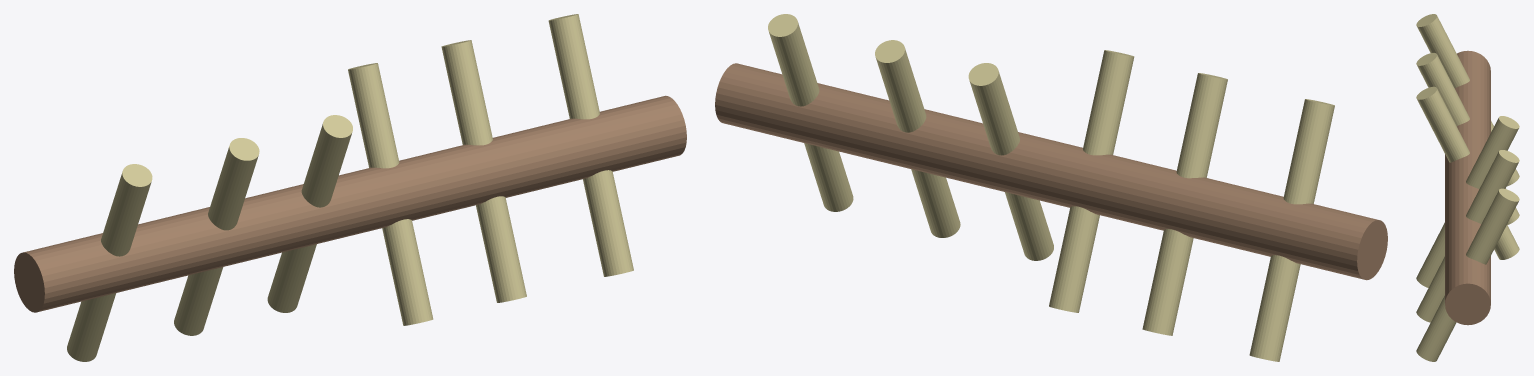
File: obstacle_barricade.glb
3 views of the same model, side by side, from view 1: azimuth 30°, elevation 25°; view 2: azimuth 150°, elevation 25°; view 3: azimuth 270°, elevation 25° (orthographic). The views are drawn at different scales.
Visible parts, largest first — view 1: Cylinder, Cylinder.004, Cylinder.005, Cylinder.006, Cylinder.003, Cylinder.001, Cylinder.002; view 2: Cylinder, Cylinder.003, Cylinder.001, Cylinder.002, Cylinder.006, Cylinder.004, Cylinder.005; view 3: Cylinder, Cylinder.006, Cylinder.005, Cylinder.003, Cylinder.004, Cylinder.001, Cylinder.002.
Part boxes in pixels (box(x1,y1,x2,y2)): Cylinder: box(14, 95, 686, 312); Cylinder.004: box(348, 63, 433, 325); Cylinder.005: box(441, 40, 526, 302); Cylinder.006: box(548, 14, 633, 276); Cylinder.003: box(267, 115, 352, 312); Cylinder.001: box(67, 164, 152, 361); Cylinder.002: box(174, 138, 259, 335); Cylinder: box(715, 63, 1387, 280); Cylinder.003: box(1049, 50, 1134, 312); Cylinder.001: box(1249, 99, 1334, 361); Cylinder.002: box(1142, 73, 1227, 335); Cylinder.006: box(768, 14, 853, 211); Cylinder.004: box(968, 63, 1053, 260); Cylinder.005: box(875, 40, 960, 237); Cylinder: box(1445, 50, 1490, 325); Cylinder.006: box(1416, 188, 1519, 361); Cylinder.005: box(1416, 150, 1519, 322); Cylinder.003: box(1416, 86, 1519, 259); Cylinder.004: box(1416, 116, 1519, 287); Cylinder.001: box(1416, 14, 1519, 186); Cylinder.002: box(1416, 53, 1519, 224).
Bounding box in the file's own units: 2.4 × 0.8126 × 0.4499.
